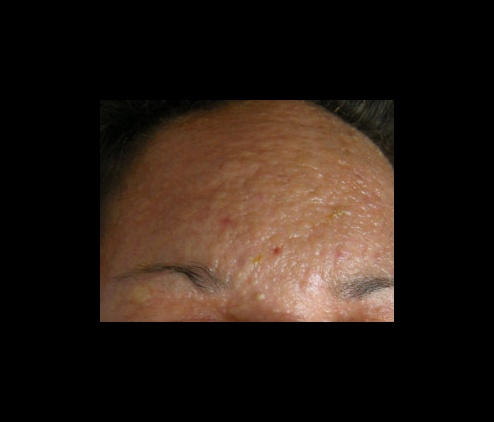SJS-TEN: (95, 96, 398, 327)
